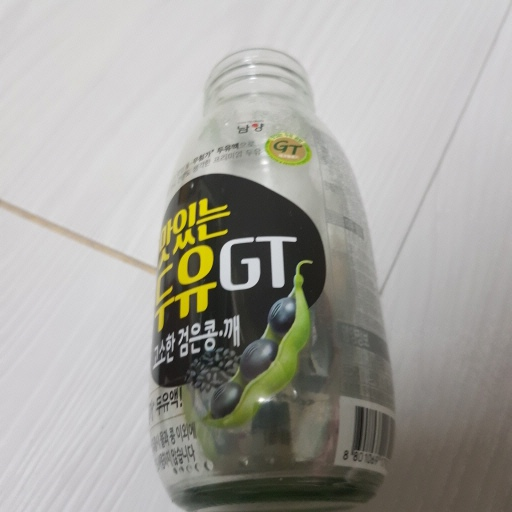Glass_4: (154, 51, 396, 509)
